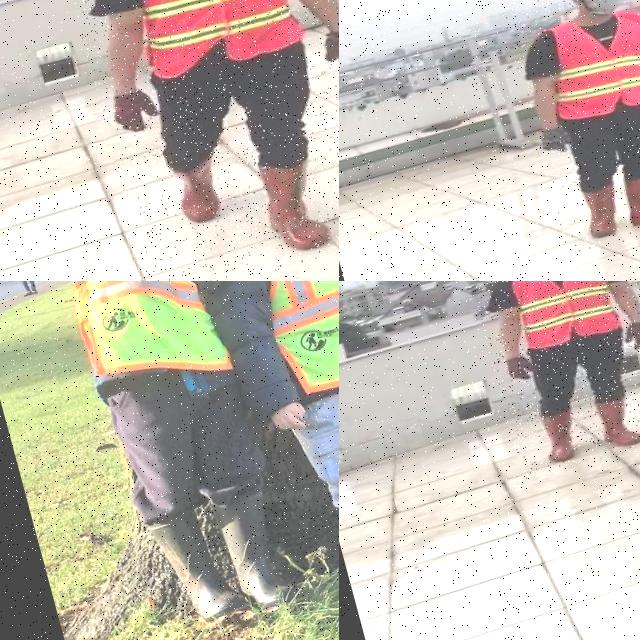boots: (257, 153, 336, 258), (162, 157, 230, 229), (587, 393, 640, 453), (574, 181, 624, 242), (536, 410, 581, 464), (618, 162, 640, 234)
vest: (66, 281, 219, 391), (116, 0, 304, 82), (536, 0, 640, 124), (238, 281, 339, 408), (504, 281, 624, 353)
